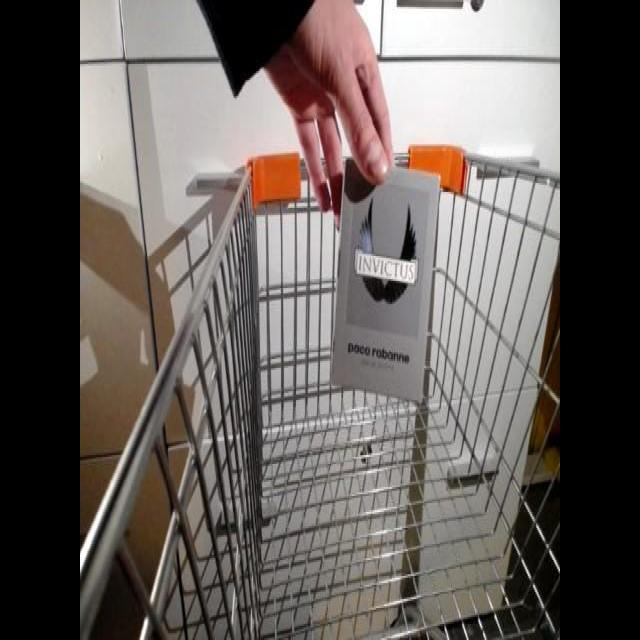Paco Rabanne: (321, 151, 445, 407)
